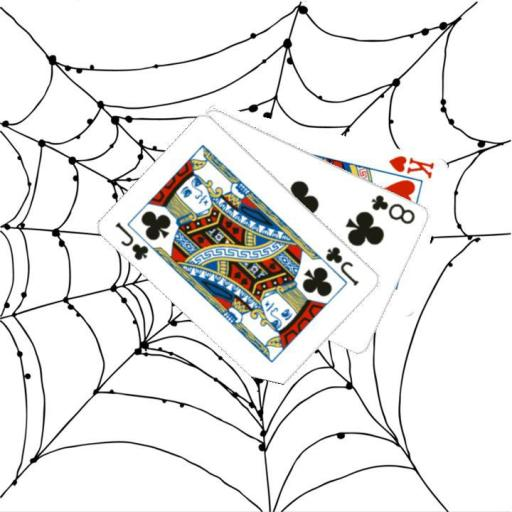8C: (369, 192, 418, 226)
JC: (322, 243, 361, 287), (112, 219, 151, 263)
KH: (386, 152, 436, 180)
